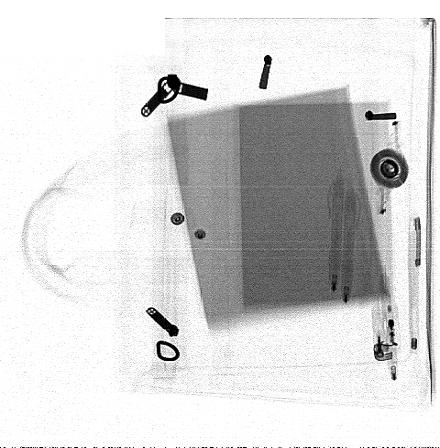Lighter: (369, 273, 398, 362)
